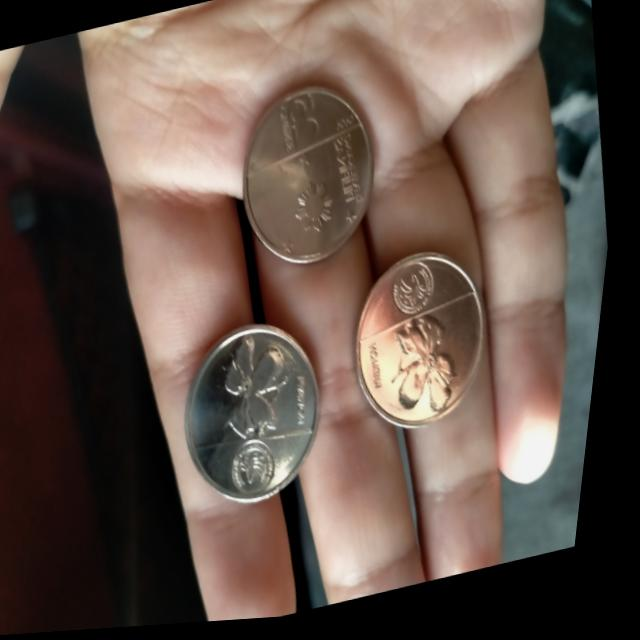25Cent_New_Front: (258, 80, 335, 167)
